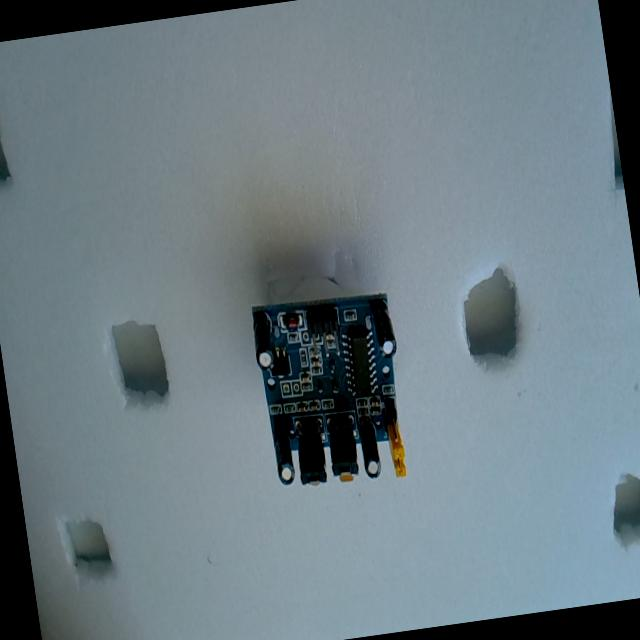Electrolytic capacitor: (370, 297, 398, 358), (250, 312, 277, 371), (358, 418, 383, 480), (272, 426, 297, 486)
IC: (339, 320, 382, 400)
pinheader: (305, 306, 341, 352)
